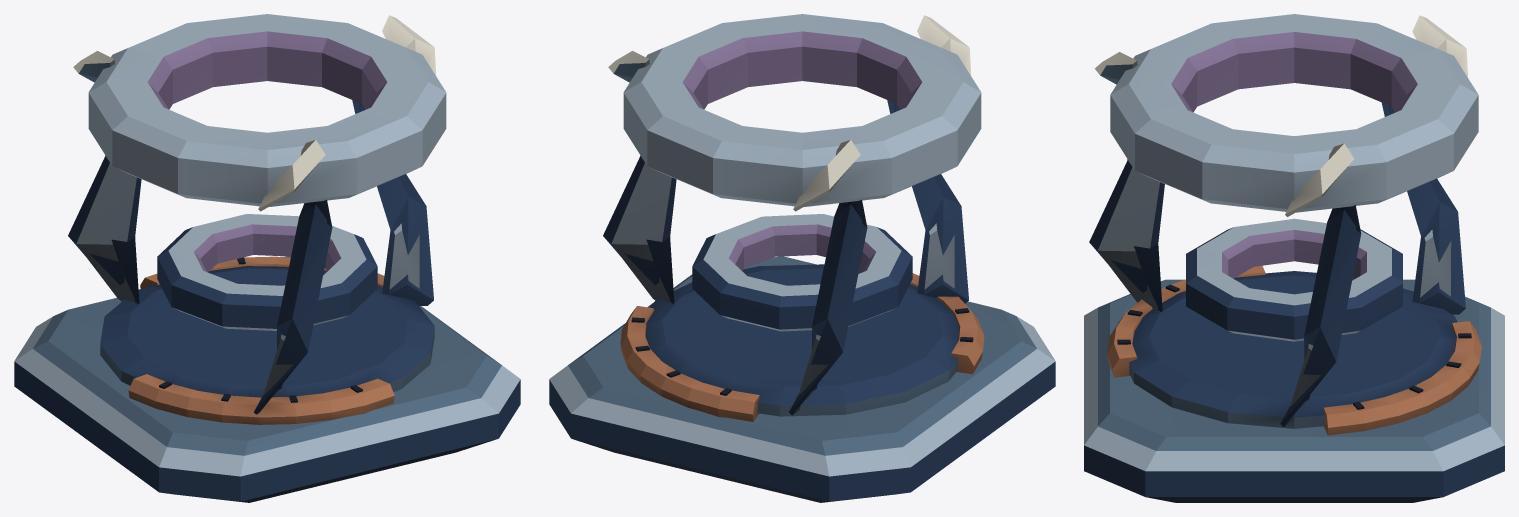
File: teleporter.glb
3 views of the same model, side by side, from view 1: azimuth 30°, elevation 25°; view 2: azimuth 150°, elevation 25°; view 3: azimuth 270°, elevation 25° (orthographic). The views are drawn at different scales.
Visible parts, largest first — view 1: teleporter; view 2: teleporter; view 3: teleporter.
Boxes of the visible parts, x1,y1,x2,y2 form: teleporter: (14, 14, 520, 502); teleporter: (549, 14, 1055, 502); teleporter: (1084, 14, 1504, 502).
Size of the model in its own units: 0.98 by 0.898 by 0.96.
